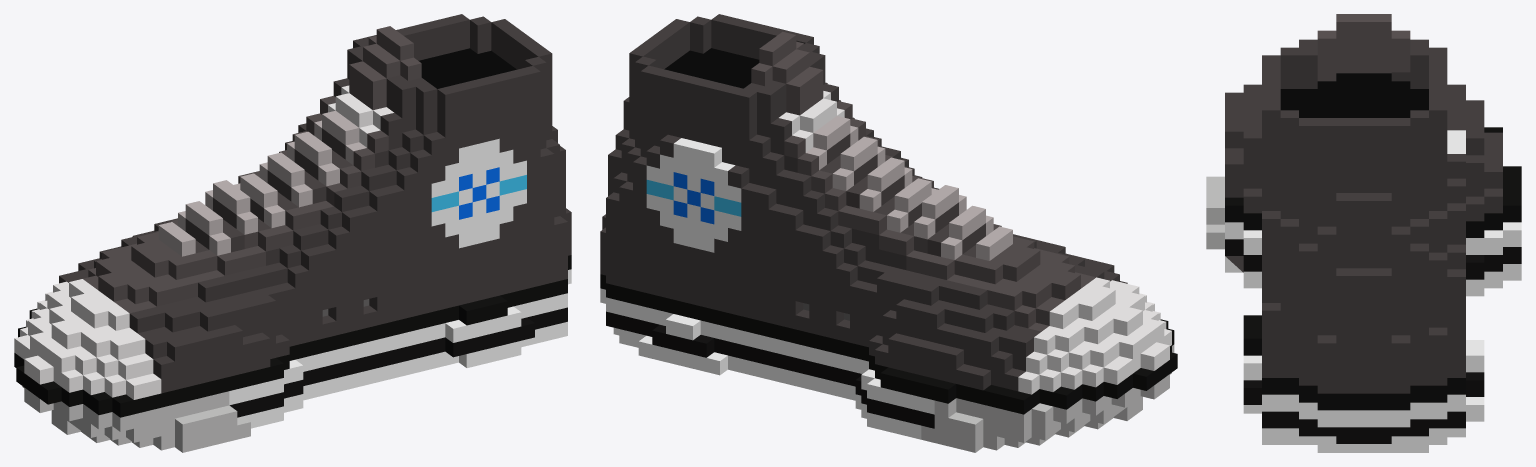
The model's file is Grey Surprise.fbx.
3 renders of one model, left to right at view 1: azimuth 30°, elevation 25°; view 2: azimuth 150°, elevation 25°; view 3: azimuth 270°, elevation 25°, orthographic. The views are drawn at different scales.
Parts seen in each view (by area): view 1: Untitled; view 2: Untitled; view 3: Untitled.
Part boxes in pixels (x1,y1,x2,y2): Untitled: [14, 14, 571, 452]; Untitled: [600, 14, 1177, 452]; Untitled: [1206, 14, 1521, 452].
Bounding box in the file's own units: 390 × 210 × 170.
